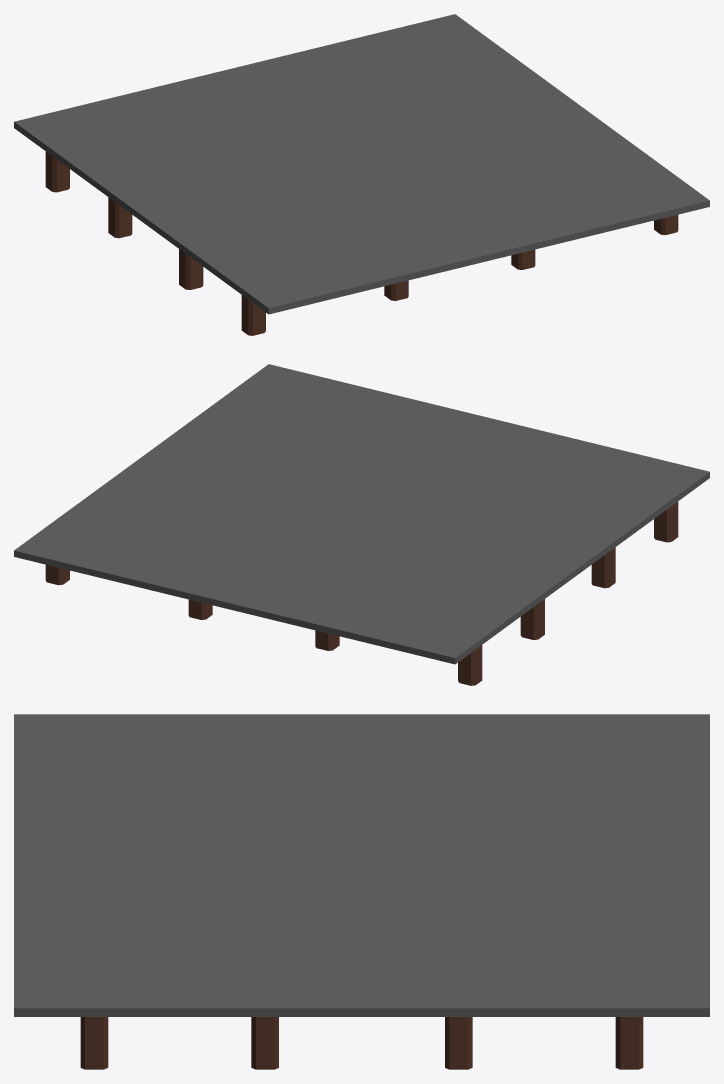
File: Platform_2_3 Asia.fbx
The picture shows the model from 3 angles, top to bottom: view 1: azimuth 30°, elevation 25°; view 2: azimuth 150°, elevation 25°; view 3: azimuth 270°, elevation 25°; orthographic projection. The views are drawn at different scales.
Parts seen in each view (by area): view 1: Platform_2_3; view 2: Platform_2_3; view 3: Platform_2_3.
Boxes of the visible parts, x1,y1,x2,y2 form: Platform_2_3: (14,14,709,335); Platform_2_3: (14,364,709,685); Platform_2_3: (14,714,709,1069).
Size of the model in its own units: 6.8 by 0.7011 by 6.8.
